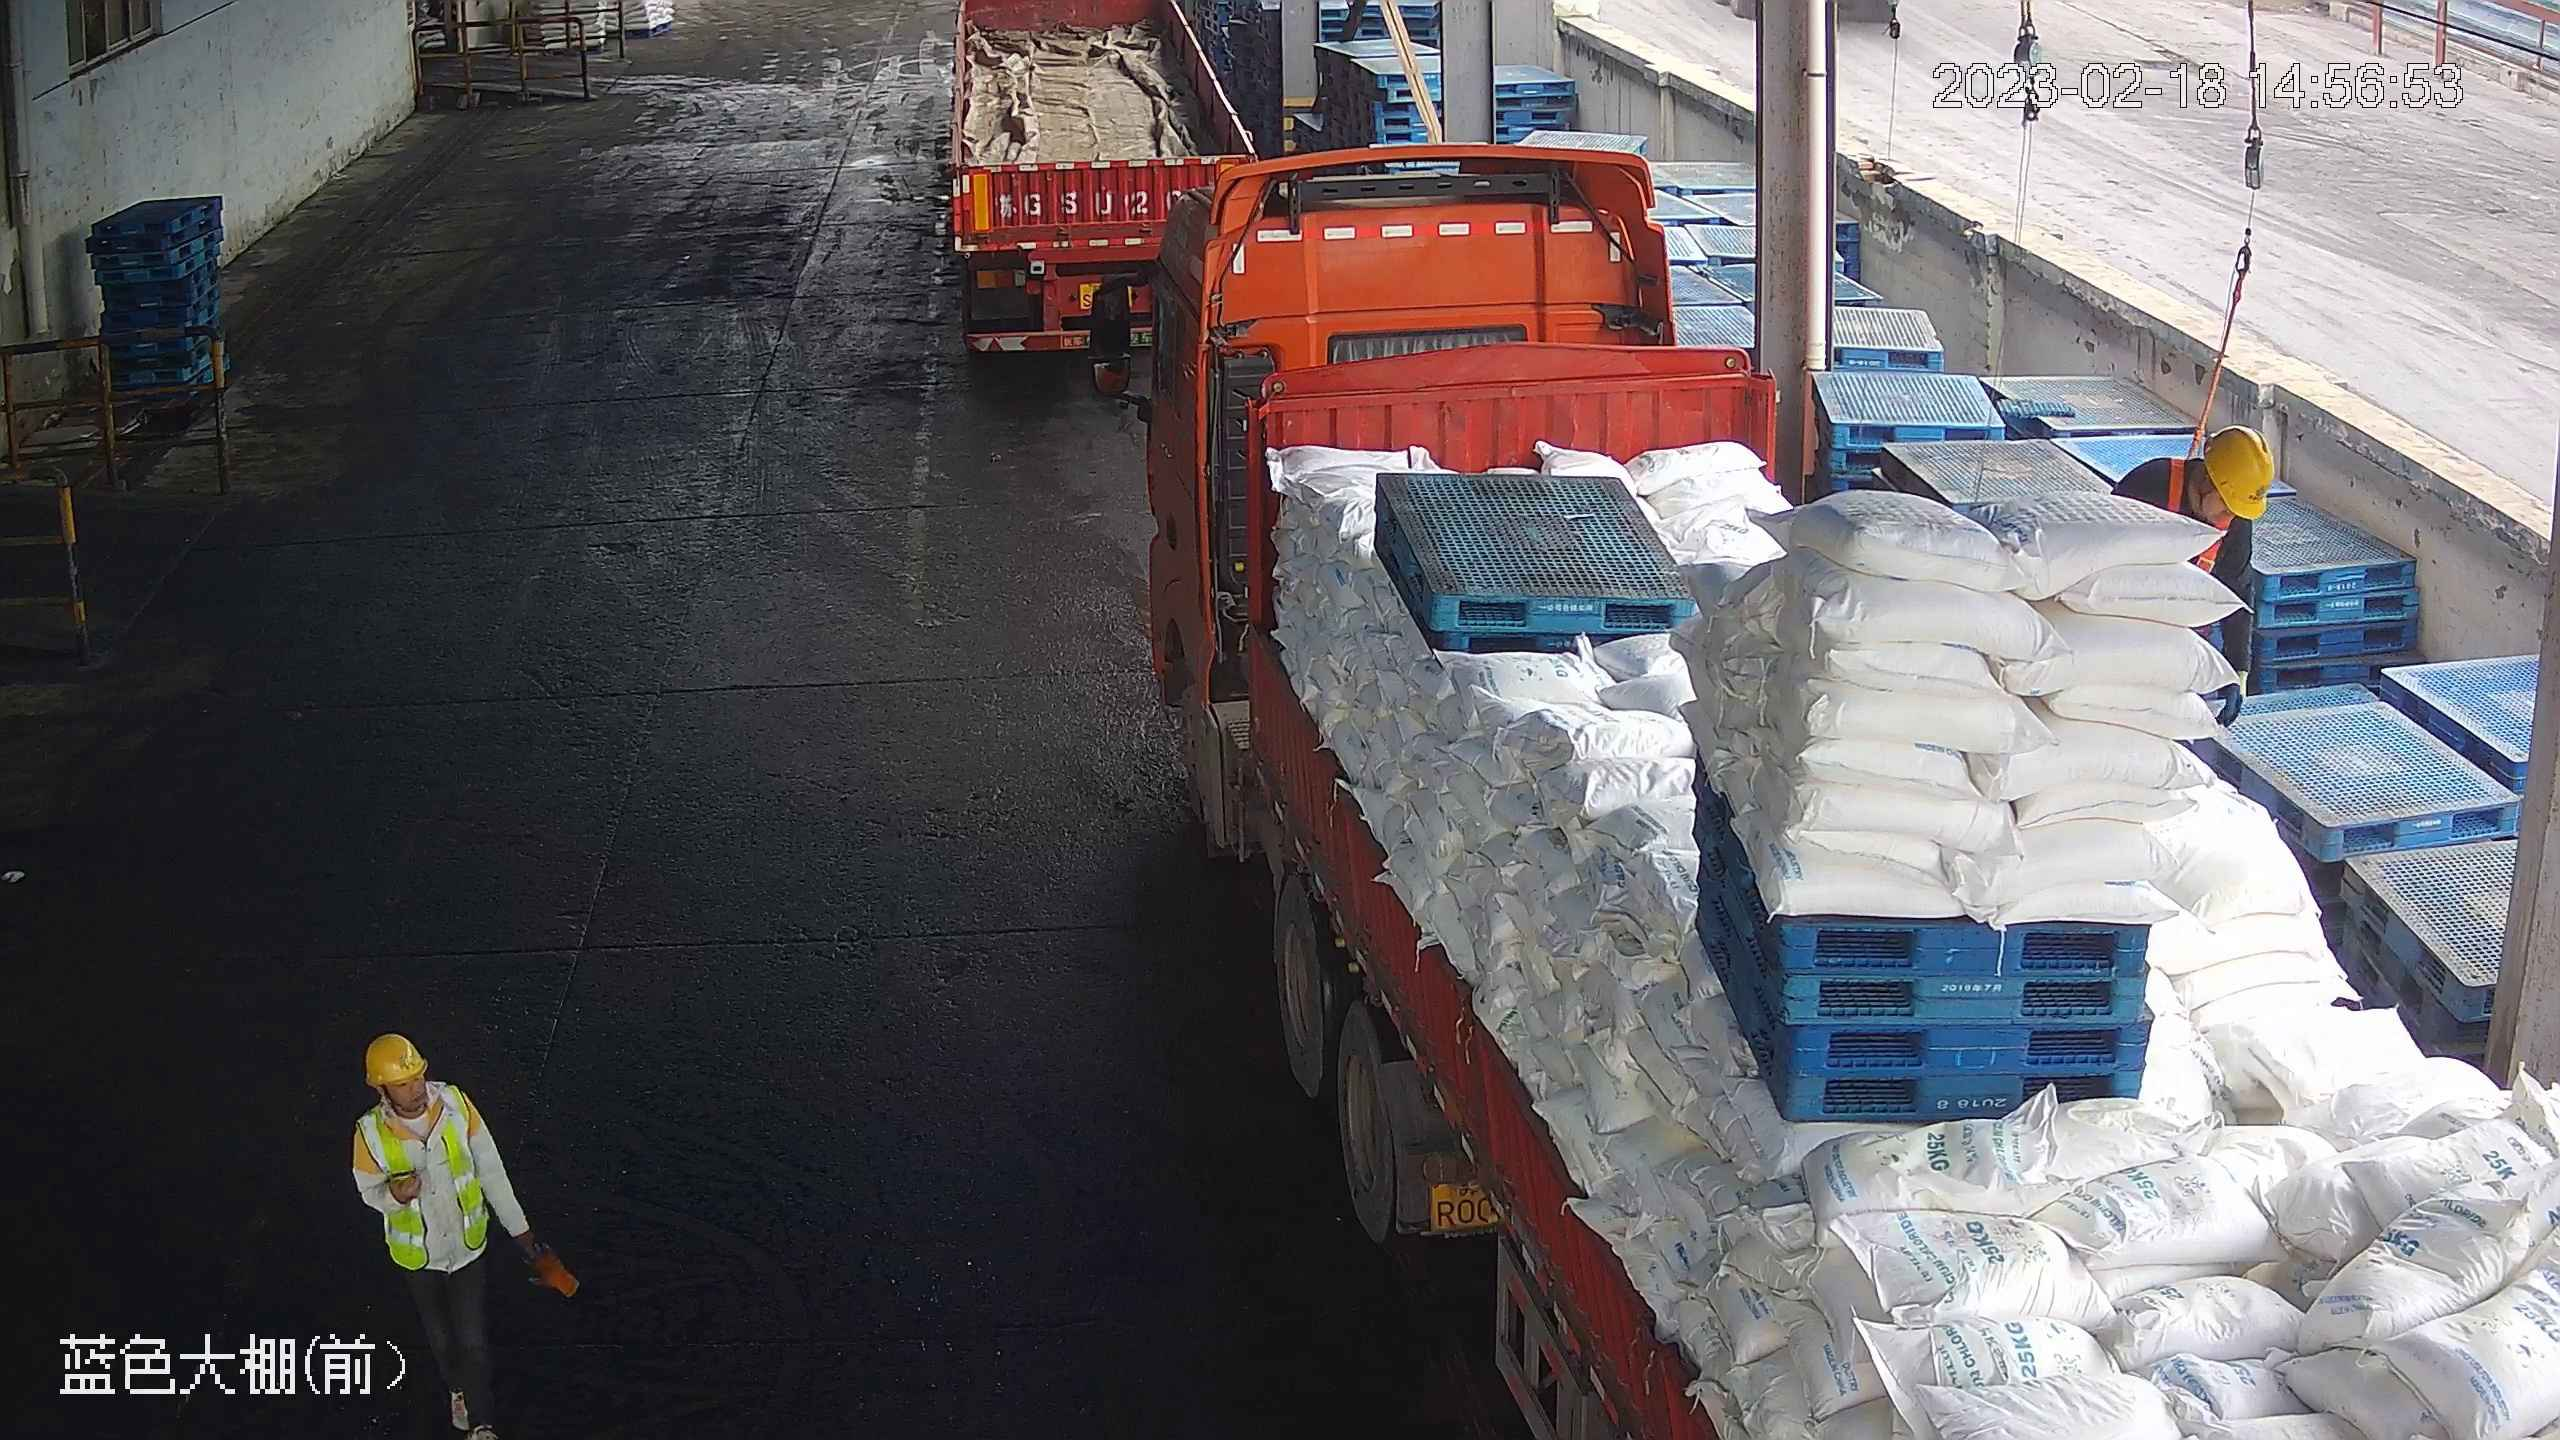belt: (2153, 452, 2216, 532)
head: (2119, 418, 2274, 537), (351, 1030, 485, 1155)
helmet: (2203, 420, 2284, 519), (361, 1031, 427, 1084)
people: (345, 1027, 576, 1437)
truck: (1083, 154, 2556, 1440), (926, 1, 1270, 350)
